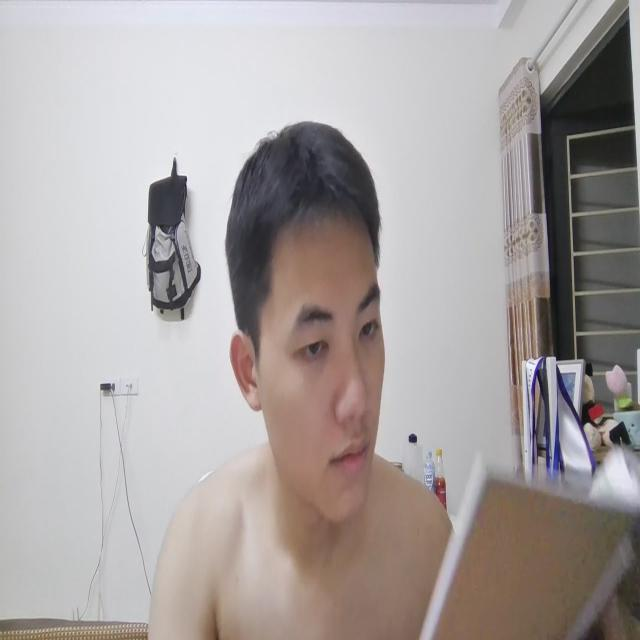book: (426, 446, 640, 640)
student: (171, 122, 415, 640)
